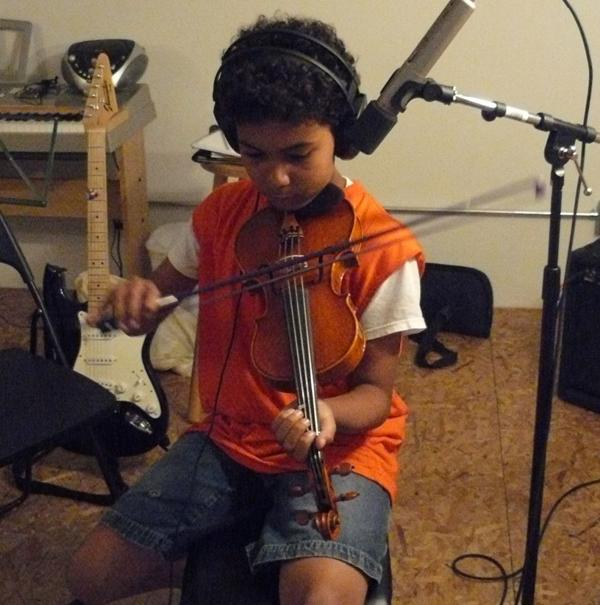person: (65, 17, 427, 604)
